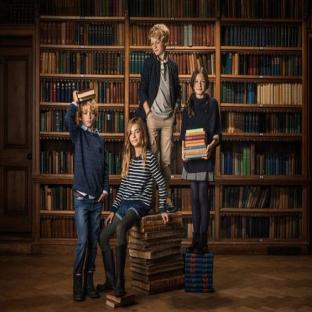Human: (65, 24, 181, 300), (179, 68, 221, 252)
